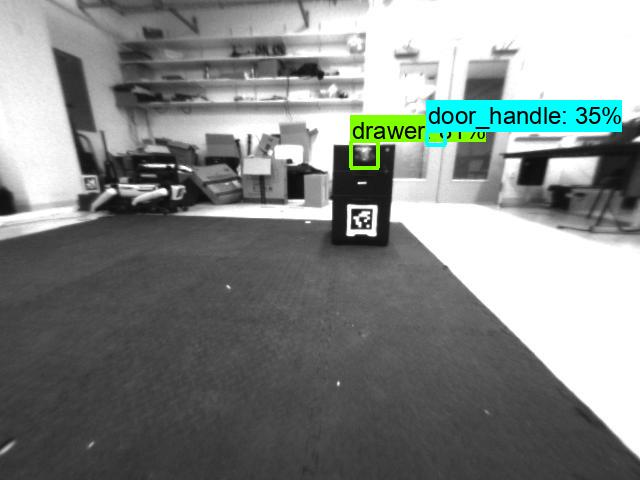door_handle: (426, 132, 443, 145)
drawer: (349, 142, 380, 167)
